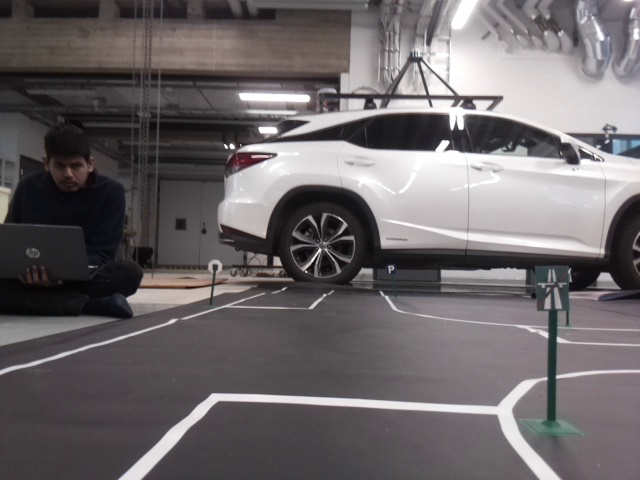HighwayExit: (536, 267, 565, 309)
